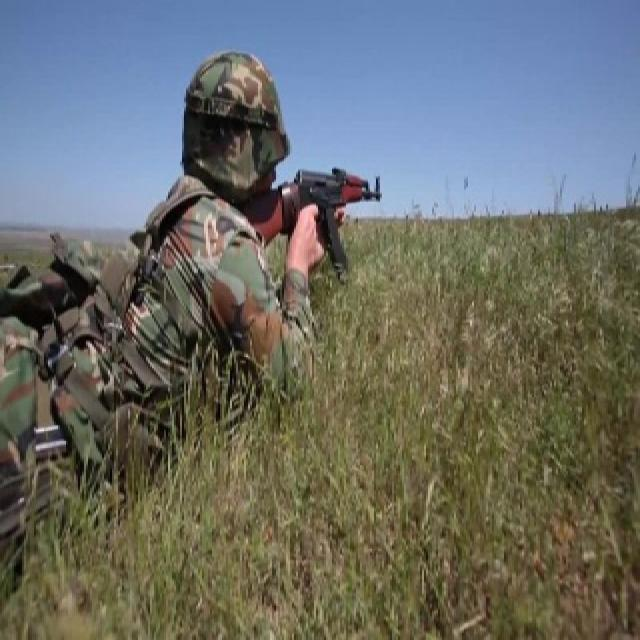weapon: (228, 159, 394, 282)
